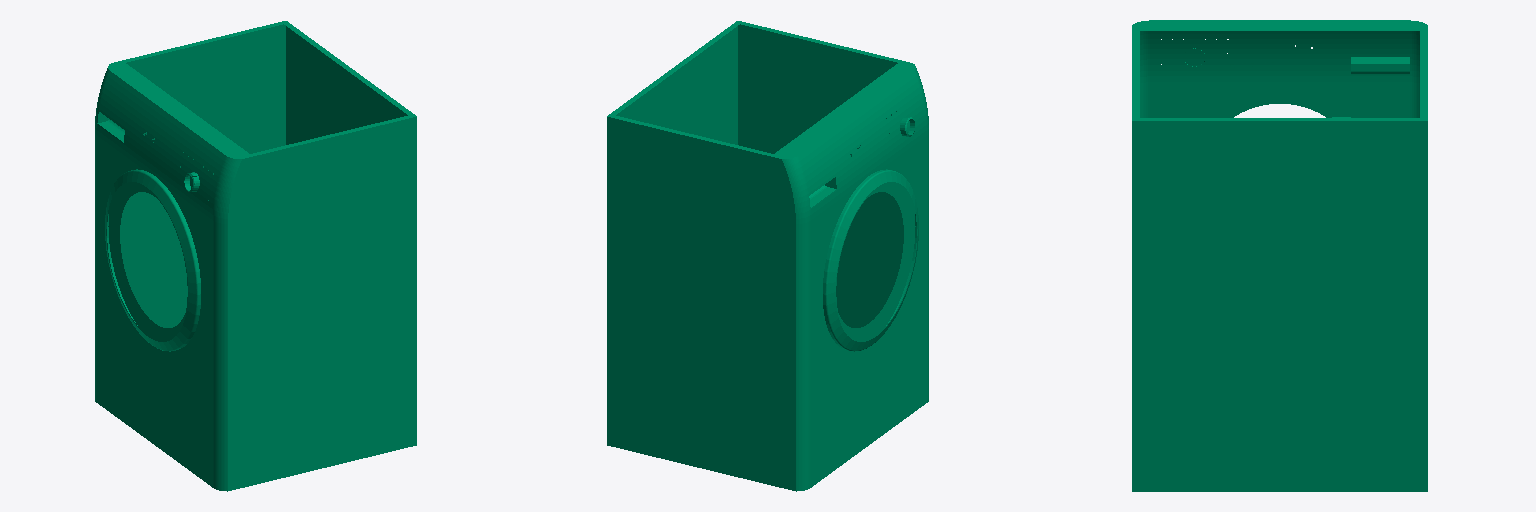
URDF robot description (partnet_441590e73bc1c5e82927226d23ff1d8):
<robot name="partnet_441590e73bc1c5e82927226d23ff1d8">
	<link name="base"><inertial><mass value="1.0" /><inertia ixx="0.1" ixy="0.0" ixz="0.0" iyy="0.1" iyz="0.0" izz="0.1" /></inertial></link>
	<link name="link_0">
		<visual name="cap-1">
			<origin xyz="0 0 0" />
			<geometry>
				<mesh filename="textured_objs/original-20.obj" />
			</geometry>
		</visual>
		<inertial><mass value="1.0" /><inertia ixx="0.1" ixy="0.0" ixz="0.0" iyy="0.1" iyz="0.0" izz="0.1" /></inertial></link>
	<joint name="joint_0" type="fixed">
		<origin xyz="0 0 0" />
		<axis xyz="0 0 1" />
		<child link="link_0" />
		<parent link="link_1" />
		<limit lower="-0.30400000000000005" upper="-0.06400000000000006" />
	</joint>
	<link name="link_1">
		<visual name="base_body-2">
			<origin xyz="0 0 0" />
			<geometry>
				<mesh filename="textured_objs/original-21.obj" />
			</geometry>
		</visual>
		<visual name="base_body-2">
			<origin xyz="0 0 0" />
			<geometry>
				<mesh filename="textured_objs/original-22.obj" />
			</geometry>
		</visual>
		<visual name="base_body-2">
			<origin xyz="0 0 0" />
			<geometry>
				<mesh filename="textured_objs/original-4.obj" />
			</geometry>
		</visual>
		<visual name="base_body-2">
			<origin xyz="0 0 0" />
			<geometry>
				<mesh filename="textured_objs/original-3.obj" />
			</geometry>
		</visual>
		<visual name="base_body-2">
			<origin xyz="0 0 0" />
			<geometry>
				<mesh filename="textured_objs/original-2.obj" />
			</geometry>
		</visual>
		<visual name="base_body-2">
			<origin xyz="0 0 0" />
			<geometry>
				<mesh filename="textured_objs/original-8.obj" />
			</geometry>
		</visual>
		<visual name="base_body-2">
			<origin xyz="0 0 0" />
			<geometry>
				<mesh filename="textured_objs/original-13.obj" />
			</geometry>
		</visual>
		<visual name="base_body-2">
			<origin xyz="0 0 0" />
			<geometry>
				<mesh filename="textured_objs/original-9.obj" />
			</geometry>
		</visual>
		<visual name="base_body-2">
			<origin xyz="0 0 0" />
			<geometry>
				<mesh filename="textured_objs/original-5.obj" />
			</geometry>
		</visual>
		<visual name="base_body-2">
			<origin xyz="0 0 0" />
			<geometry>
				<mesh filename="textured_objs/original-6.obj" />
			</geometry>
		</visual>
		<visual name="base_body-2">
			<origin xyz="0 0 0" />
			<geometry>
				<mesh filename="textured_objs/original-15.obj" />
			</geometry>
		</visual>
		<visual name="base_body-2">
			<origin xyz="0 0 0" />
			<geometry>
				<mesh filename="textured_objs/original-11.obj" />
			</geometry>
		</visual>
		<visual name="base_body-2">
			<origin xyz="0 0 0" />
			<geometry>
				<mesh filename="textured_objs/original-18.obj" />
			</geometry>
		</visual>
		<visual name="base_body-2">
			<origin xyz="0 0 0" />
			<geometry>
				<mesh filename="textured_objs/original-17.obj" />
			</geometry>
		</visual>
		<visual name="base_body-2">
			<origin xyz="0 0 0" />
			<geometry>
				<mesh filename="textured_objs/original-12.obj" />
			</geometry>
		</visual>
		<visual name="base_body-2">
			<origin xyz="0 0 0" />
			<geometry>
				<mesh filename="textured_objs/original-7.obj" />
			</geometry>
		</visual>
		<visual name="base_body-2">
			<origin xyz="0 0 0" />
			<geometry>
				<mesh filename="textured_objs/original-10.obj" />
			</geometry>
		</visual>
		<visual name="base_body-2">
			<origin xyz="0 0 0" />
			<geometry>
				<mesh filename="textured_objs/original-14.obj" />
			</geometry>
		</visual>
		<visual name="base_body-2">
			<origin xyz="0 0 0" />
			<geometry>
				<mesh filename="textured_objs/original-19.obj" />
			</geometry>
		</visual>
		<inertial><mass value="1.0" /><inertia ixx="0.1" ixy="0.0" ixz="0.0" iyy="0.1" iyz="0.0" izz="0.1" /></inertial></link>
	<joint name="joint_1" type="fixed">
		<origin rpy="1.570796326794897 0 -1.570796326794897" xyz="0 0 0" />
		<child link="link_1" />
		<parent link="base" />
	</joint>
</robot>

--- What the picture shows (computed from the rendered views, not written in the file) ---
The picture shows the robot from 3 angles, left to right: view 1: azimuth 30°, elevation 25°; view 2: azimuth 150°, elevation 25°; view 3: azimuth 270°, elevation 25°; orthographic projection.
Robot: partnet_441590e73bc1c5e82927226d23ff1d8 — 3 links, 2 joints (2 fixed); root link base; default pose: all joints at 0.
Links seen in each view (by area): view 1: link_1; view 2: link_1; view 3: link_1.
Link boxes in pixels (left/top/right/bottom): link_1: left=95, top=21, right=416, bottom=491; link_1: left=607, top=21, right=928, bottom=491; link_1: left=1132, top=20, right=1427, bottom=491.
Size in the robot's own frame: 0.9968 by 1.11 by 1.53 metres.
Meshes: 20 distinct files referenced, 13 mesh visuals loaded (13 OBJ); not drawn: 7 (reference not matched to a file when rendering).
